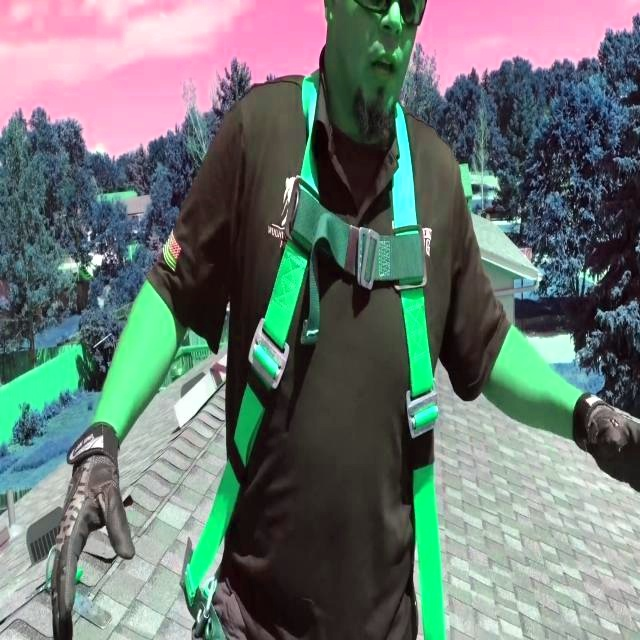safety belt: (222, 79, 467, 629)
